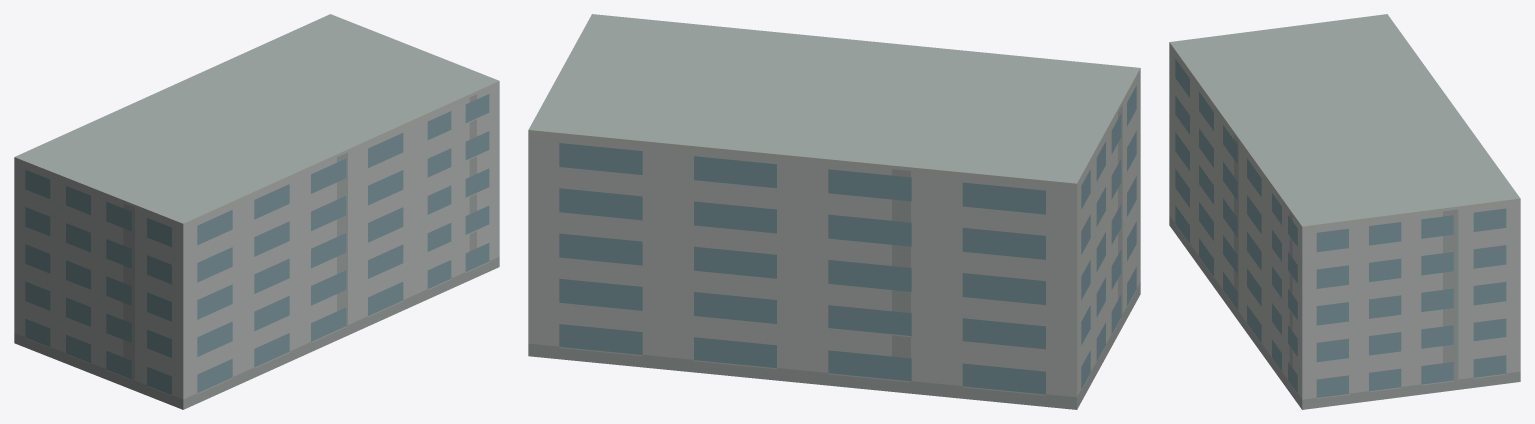
Rendered from residential-349f01f4-5f2d-45a8-9e42-b4642bde6314.glb.
3 renders of one model, left to right at view 1: azimuth 30°, elevation 25°; view 2: azimuth 150°, elevation 25°; view 3: azimuth 270°, elevation 25°, orthographic. The views are drawn at different scales.
Visible parts, largest first — view 1: residential-349f01f4-5f2d-45a8-9e42-b4642bde6314.tmp; view 2: residential-349f01f4-5f2d-45a8-9e42-b4642bde6314.tmp; view 3: residential-349f01f4-5f2d-45a8-9e42-b4642bde6314.tmp.
Boxes of the visible parts, x1,y1,x2,y2 form: residential-349f01f4-5f2d-45a8-9e42-b4642bde6314.tmp: (14,14,499,409); residential-349f01f4-5f2d-45a8-9e42-b4642bde6314.tmp: (528,14,1140,409); residential-349f01f4-5f2d-45a8-9e42-b4642bde6314.tmp: (1169,14,1520,409).
Size of the model in its own units: 37.92 by 15.25 by 26.47.
